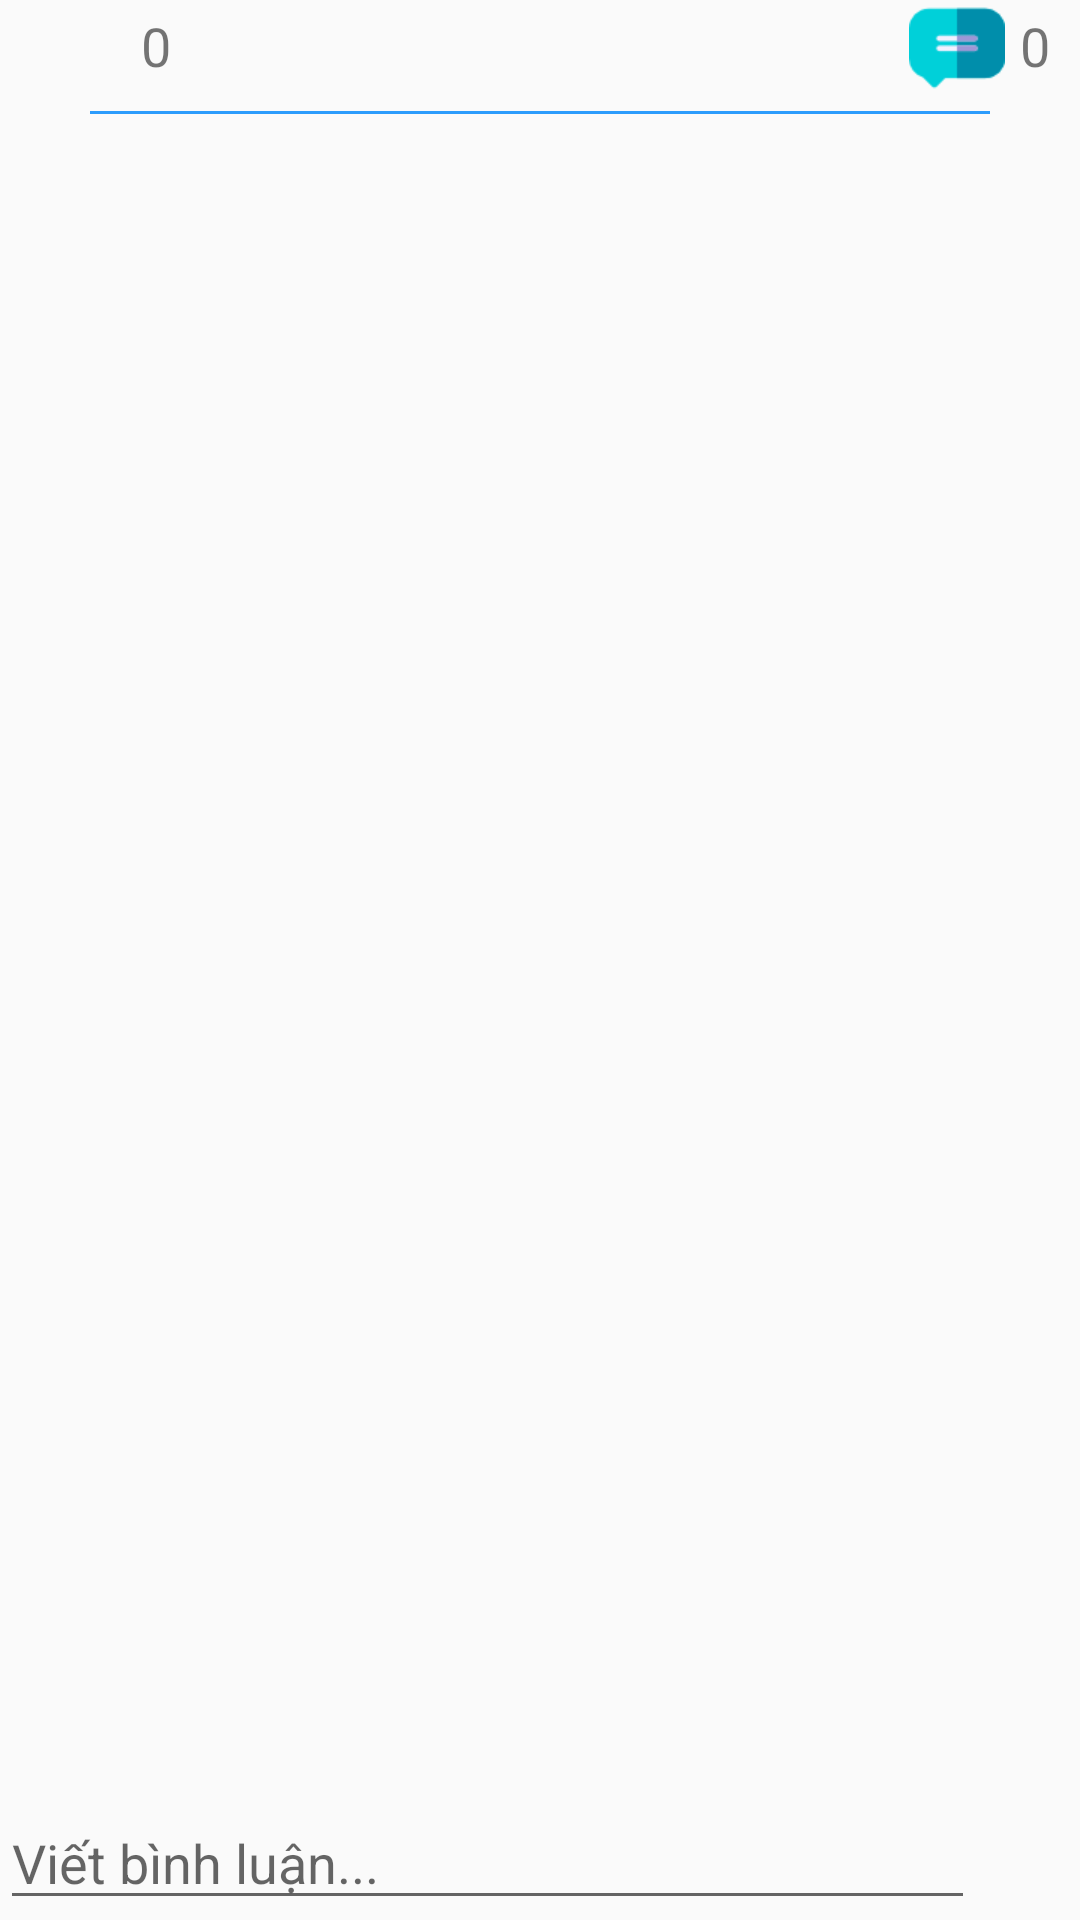

Screen size 1080 × 1920. Icon name, then its box in pixels as (left=x1, top=y1, right=x2, bottom=y2):
comment: (left=909, top=7, right=1005, bottom=89)
